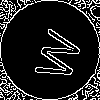W: (25, 25, 84, 84)
